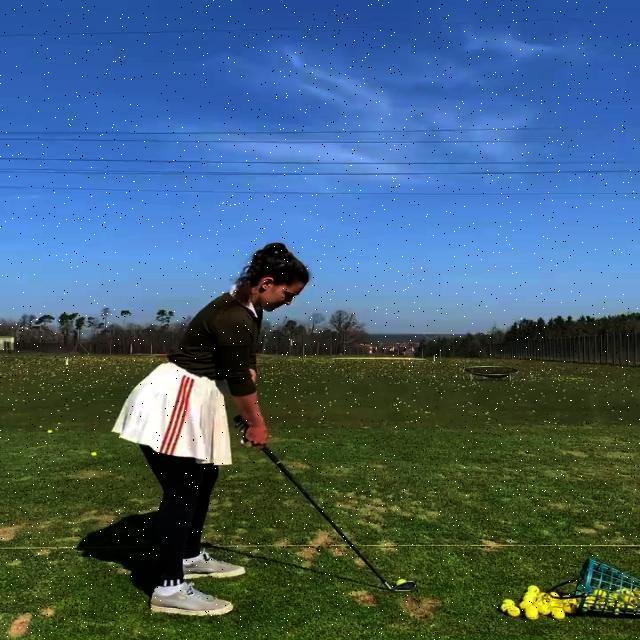ClubHead: (390, 580, 417, 592)
GolfBall: (396, 579, 406, 584)
